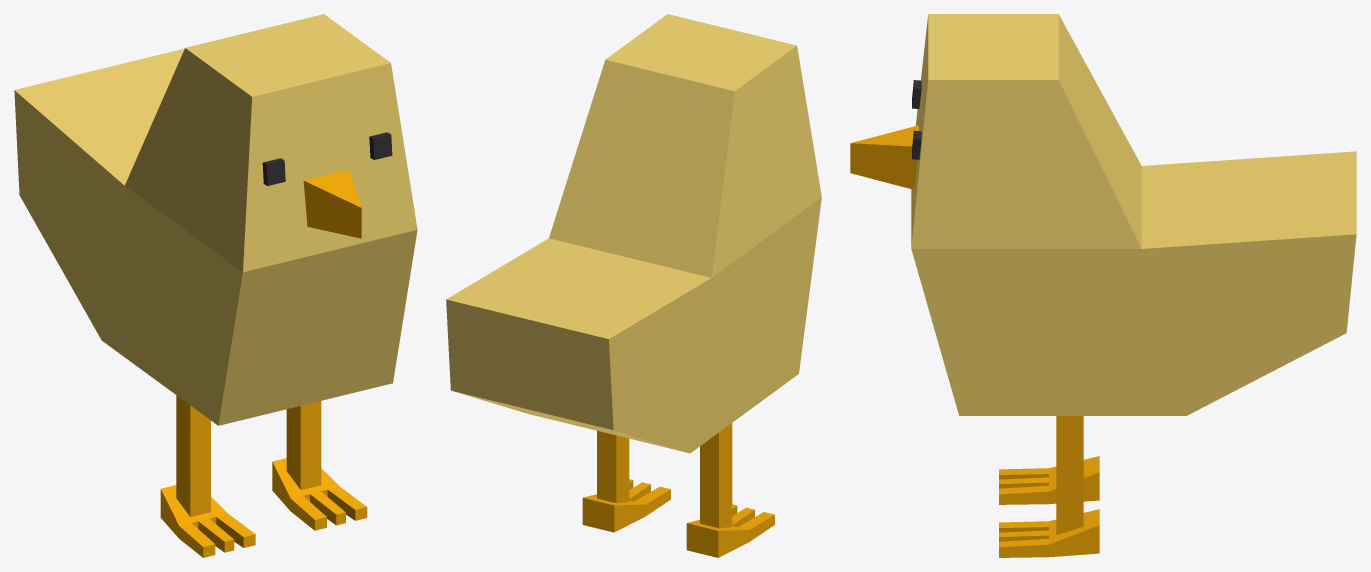
File: chick.fbx
The picture shows the model from 3 angles, left to right: view 1: azimuth 30°, elevation 25°; view 2: azimuth 150°, elevation 25°; view 3: azimuth 270°, elevation 25°; orthographic projection. The views are drawn at different scales.
Visible parts, largest first — view 1: chick; view 2: chick; view 3: chick.
Part boxes in pixels (x1=…): chick: x1=14, y1=14, x2=417, y2=557; chick: x1=446, y1=14, x2=821, y2=557; chick: x1=850, y1=14, x2=1356, y2=557.
Size of the model in its own units: 3.29 by 8.47 by 8.71.
